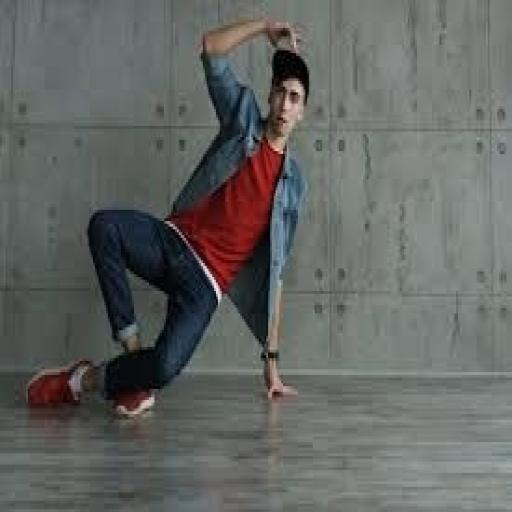dancing: (18, 14, 312, 422)
